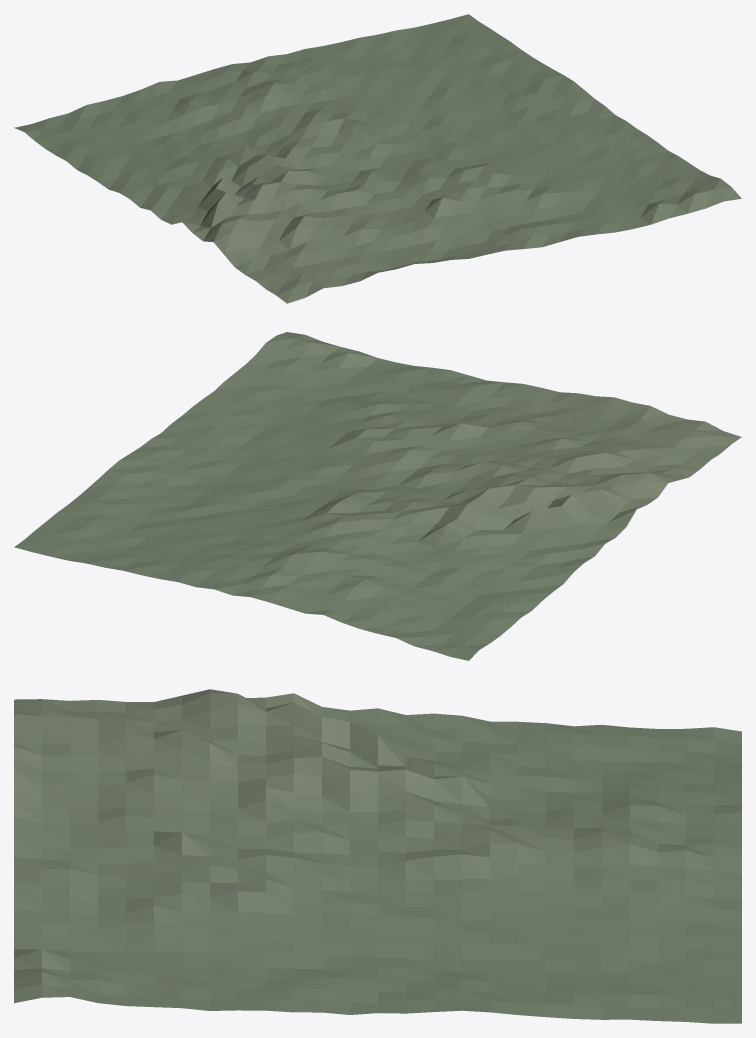
File: tile_2_0.glb
3 views of the same model, one above another, from view 1: azimuth 30°, elevation 25°; view 2: azimuth 150°, elevation 25°; view 3: azimuth 270°, elevation 25° (orthographic). The views are drawn at different scales.
Visible parts, largest first — view 1: geometry_0; view 2: geometry_0; view 3: geometry_0.
Boxes of the visible parts, left/top/right/bottom form: geometry_0: left=14, top=14, right=741, bottom=303; geometry_0: left=14, top=332, right=741, bottom=660; geometry_0: left=14, top=689, right=741, bottom=1023.
Bounding box in the file's own units: 123 × 10.33 × 127.
